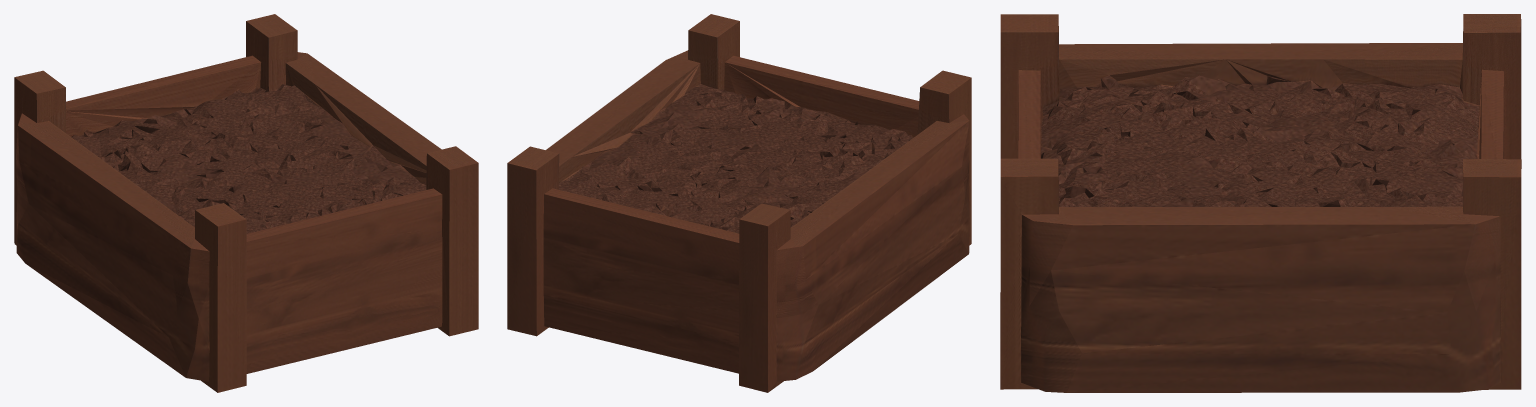
File: raised_bed.glb
3 views of the same model, side by side, from view 1: azimuth 30°, elevation 25°; view 2: azimuth 150°, elevation 25°; view 3: azimuth 270°, elevation 25° (orthographic). The views are drawn at different scales.
Bounding box in the file's own units: 1.6 × 0.8594 × 1.9.
1 material, 1 textured.
